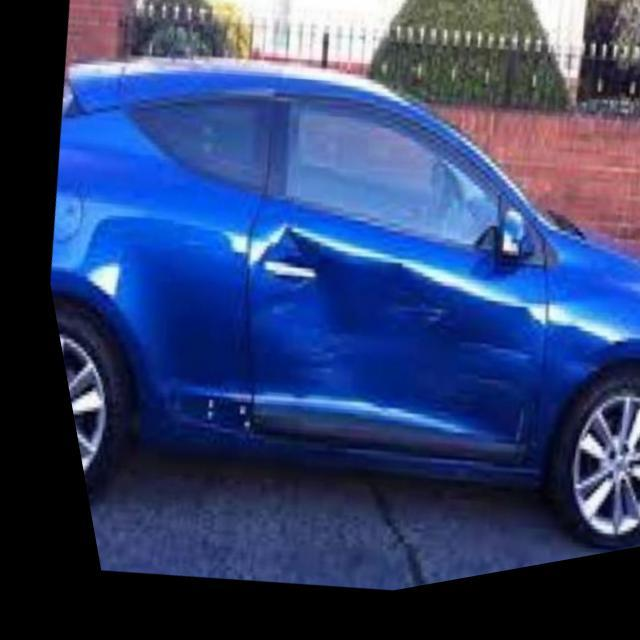dent: (253, 240, 519, 459)
